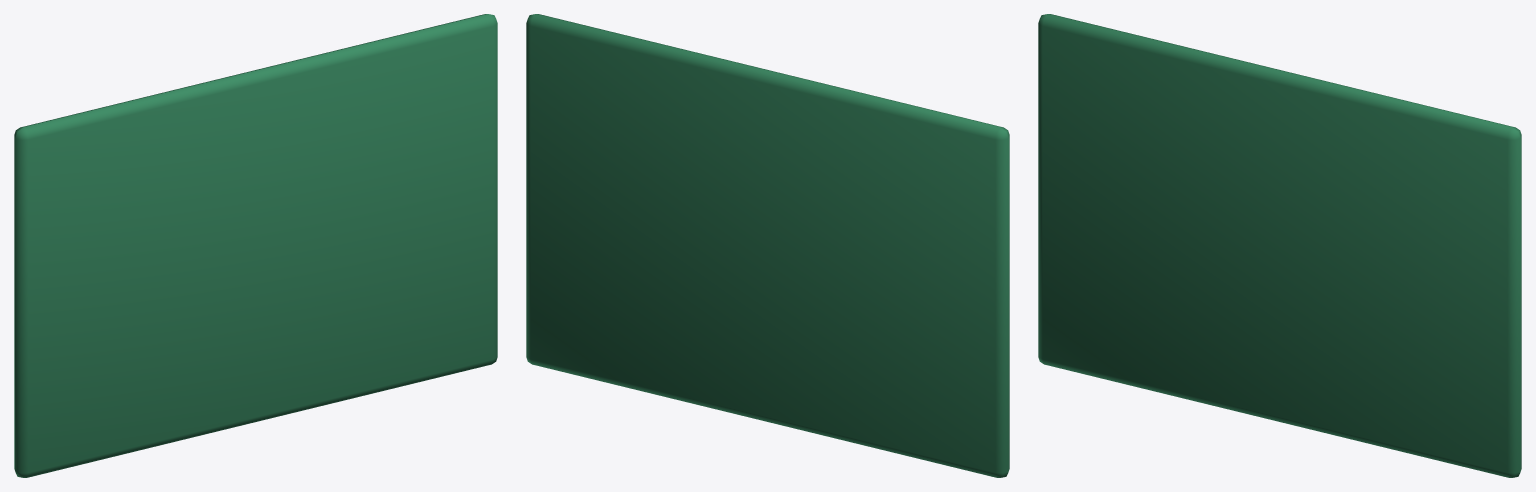
Rendered from GEO_CROSSOVER_Tailgate_Hatch.glb.
The picture shows the model from 3 angles, left to right: view 1: azimuth 30°, elevation 25°; view 2: azimuth 150°, elevation 25°; view 3: azimuth 330°, elevation 25°; orthographic projection.
Visible parts, largest first — view 1: GEO_CROSSOVER_Tailgate_Hatch; view 2: GEO_CROSSOVER_Tailgate_Hatch; view 3: GEO_CROSSOVER_Tailgate_Hatch.
Part boxes in pixels (x1,y1,x2,y2): GEO_CROSSOVER_Tailgate_Hatch: [14, 14, 497, 477]; GEO_CROSSOVER_Tailgate_Hatch: [526, 14, 1009, 477]; GEO_CROSSOVER_Tailgate_Hatch: [1038, 14, 1521, 477].
Bounding box in the file's own units: 1.43 × 0.9936 × 0.05.
